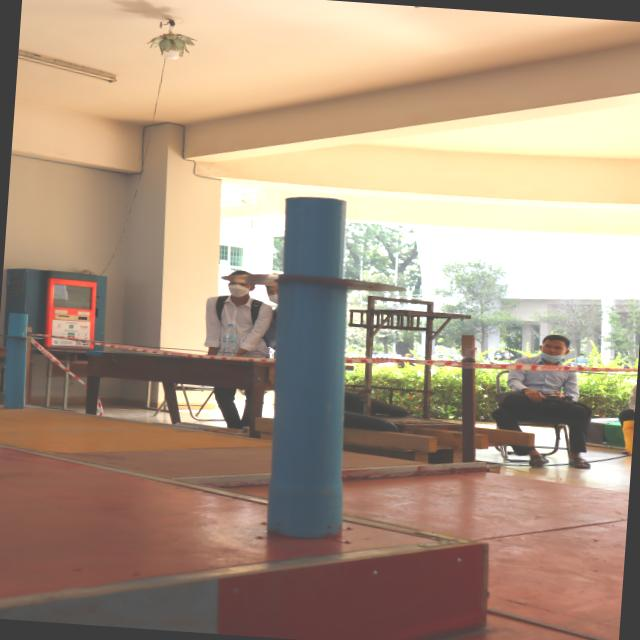pole: (211, 182, 398, 346)
